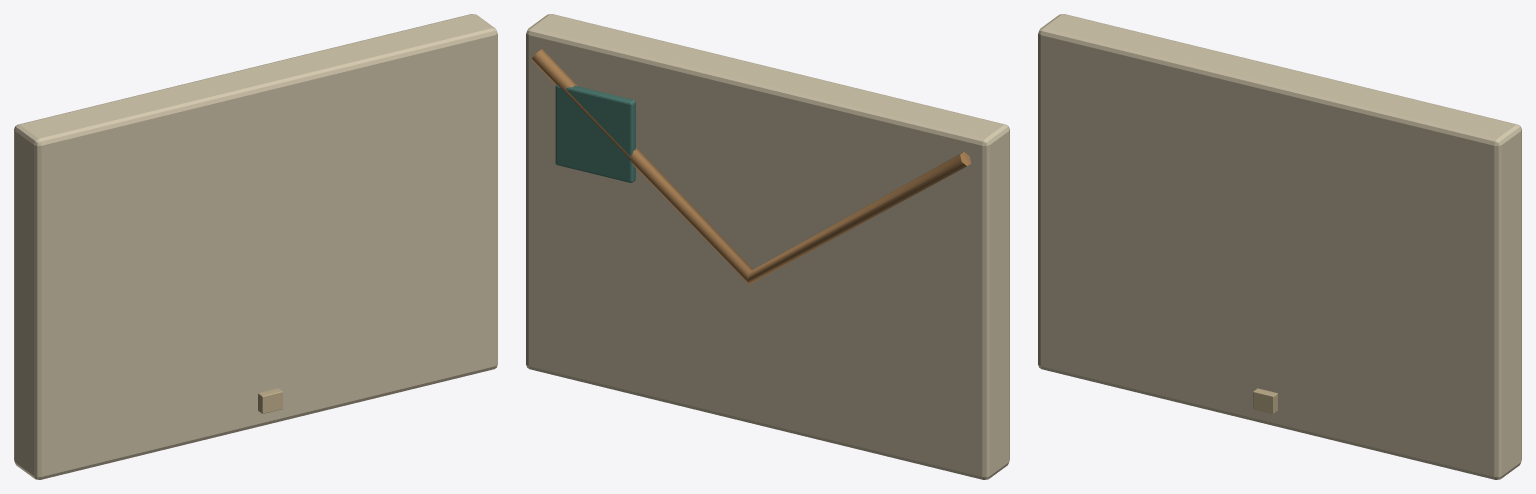
The model's file is letter.glb.
3 renders of one model, left to right at view 1: azimuth 30°, elevation 25°; view 2: azimuth 150°, elevation 25°; view 3: azimuth 330°, elevation 25°, orthographic.
Bounding box in the file's own units: 0.27 × 0.19 × 0.038.
